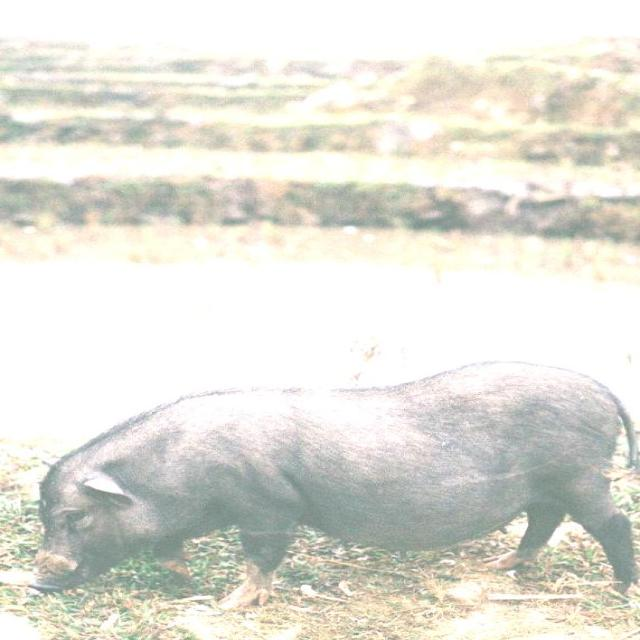pig: (37, 362, 636, 607)
